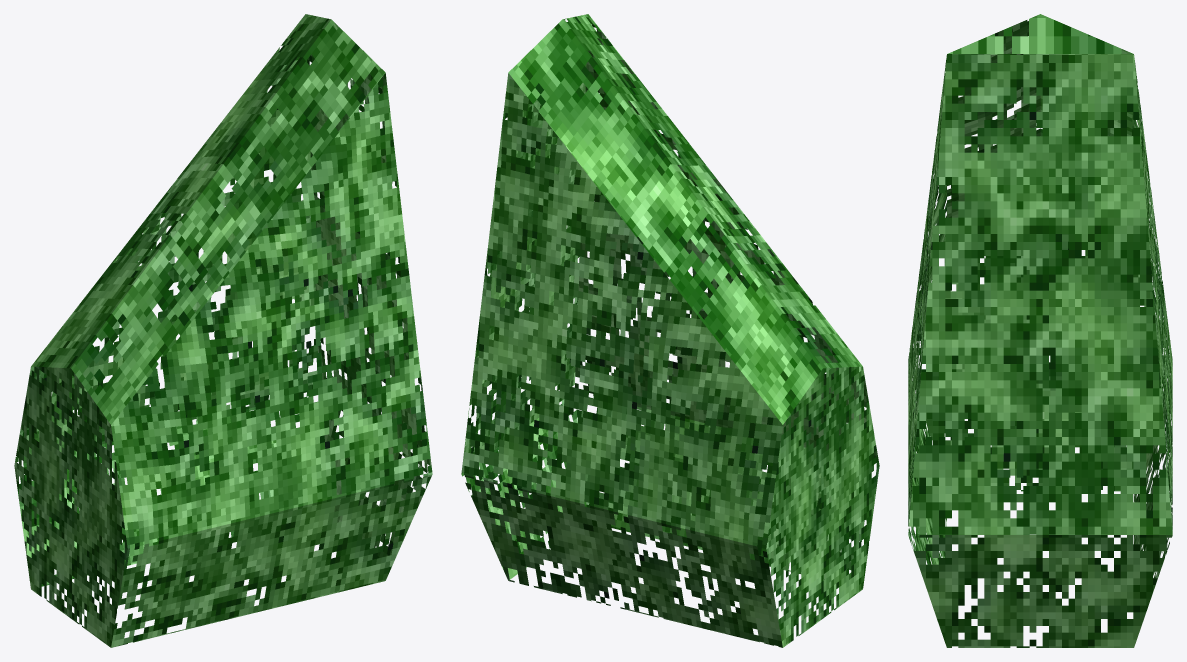
The model's file is bush_connector_high_half_end_spring.glb.
The picture shows the model from 3 angles, left to right: view 1: azimuth 30°, elevation 25°; view 2: azimuth 150°, elevation 25°; view 3: azimuth 270°, elevation 25°; orthographic projection. The views are drawn at different scales.
Visible parts, largest first — view 1: bush_connector_high_half_end_spring; view 2: bush_connector_high_half_end_spring; view 3: bush_connector_high_half_end_spring.
Part boxes in pixels (box(x1,y1,x2,y2)): bush_connector_high_half_end_spring: box(14, 14, 432, 647); bush_connector_high_half_end_spring: box(461, 14, 879, 647); bush_connector_high_half_end_spring: box(908, 14, 1172, 647).
Bounding box in the file's own units: 1.12 × 1.88 × 0.7191.
Materials: 1 (1 with a texture image).
